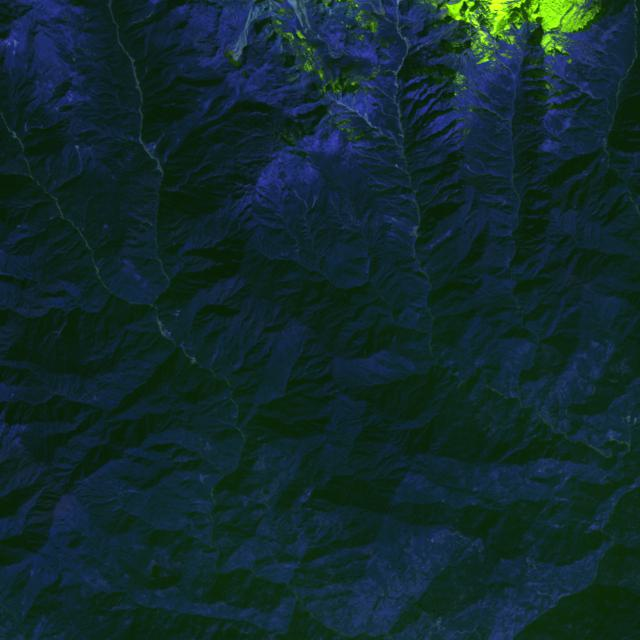landslides: (584, 80, 617, 96), (363, 170, 392, 187), (593, 89, 611, 114), (385, 215, 413, 229), (143, 138, 163, 155), (386, 231, 409, 245), (75, 144, 83, 174), (415, 277, 430, 291), (584, 87, 600, 100), (399, 260, 420, 269), (351, 361, 362, 378), (334, 192, 345, 208), (436, 349, 450, 361), (388, 227, 415, 233), (17, 222, 32, 232), (591, 291, 599, 309), (63, 502, 74, 515), (210, 350, 218, 367), (441, 358, 454, 368), (96, 258, 105, 272), (399, 194, 414, 202), (126, 135, 141, 143), (256, 229, 261, 251), (381, 350, 390, 362)
